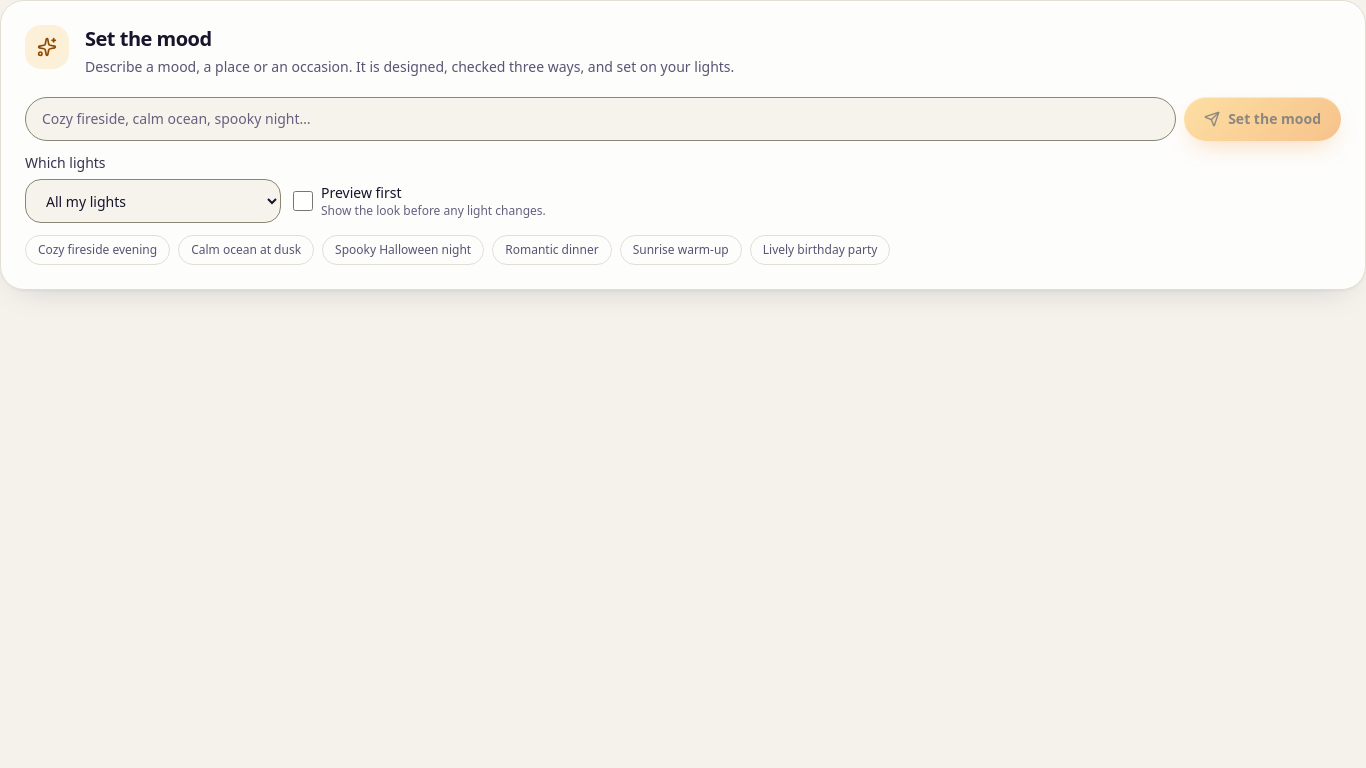
Test: Set the mood: the box › never treats an unavailable second opinion as a pass
The width and height of the screenshot is (1366, 768).
Step 1. Type "cozy fireside evening" into the field named "Describe the mood" → (601, 119), box top-left (25, 97), bottom-right (1176, 141)
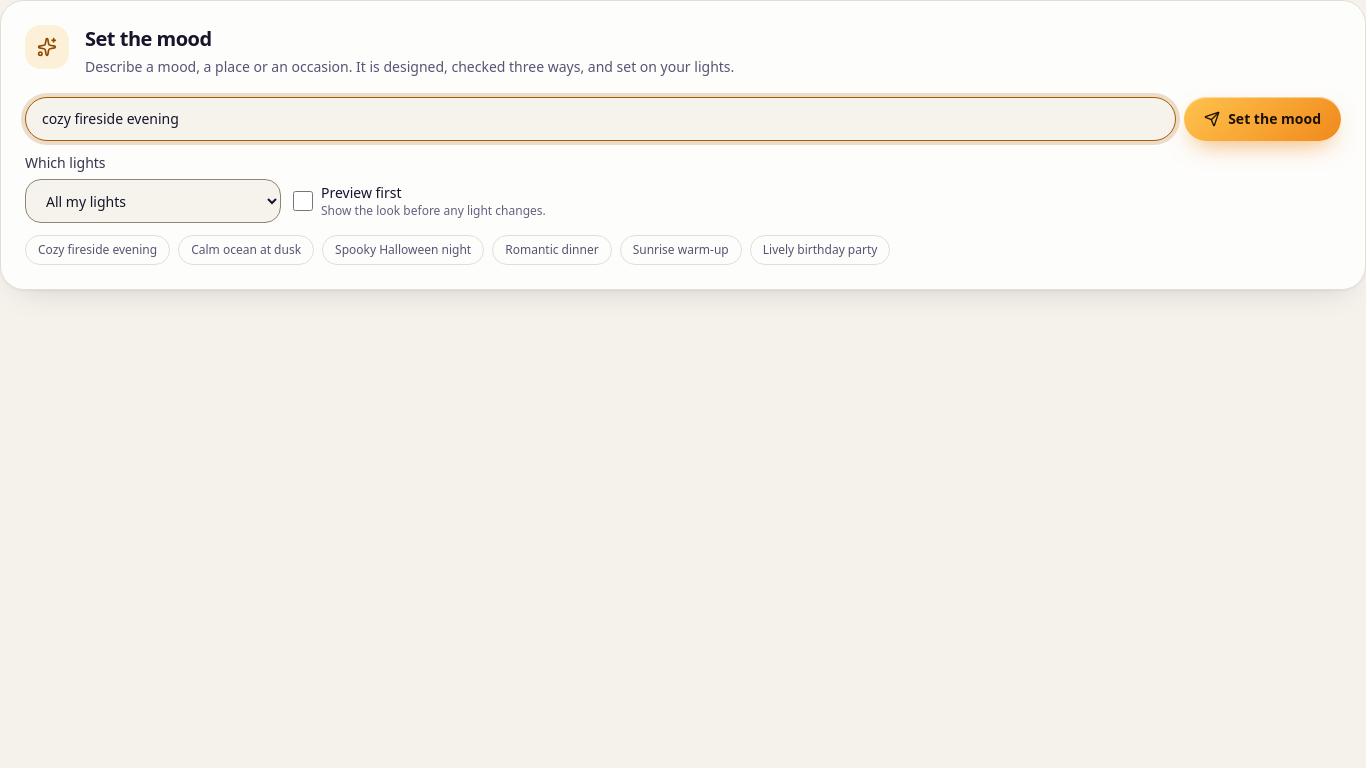
Step 2. Click the button "Set the mood" → (1263, 119), box top-left (1184, 97), bottom-right (1341, 141)
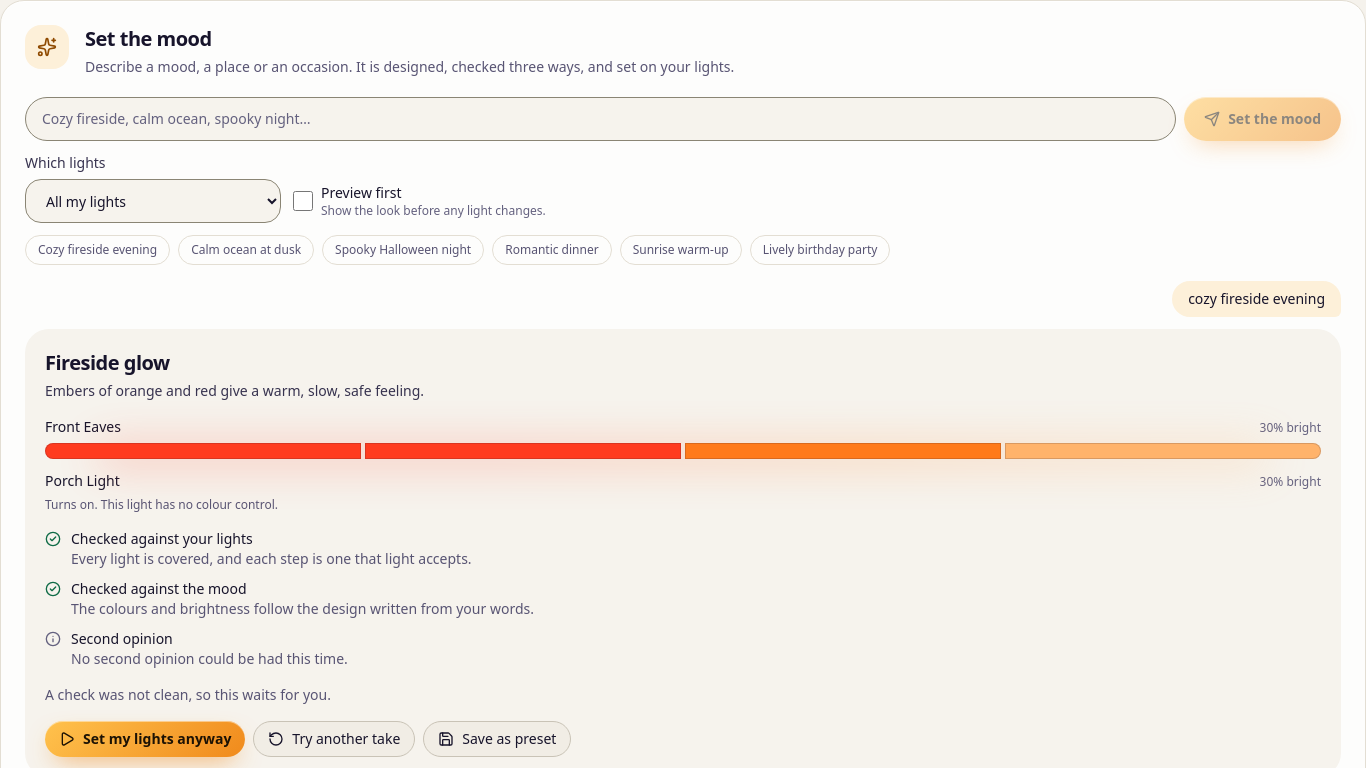
expect the text "No second opinion could be had this time." is shown: met, box top-left (71, 649), bottom-right (348, 669)
